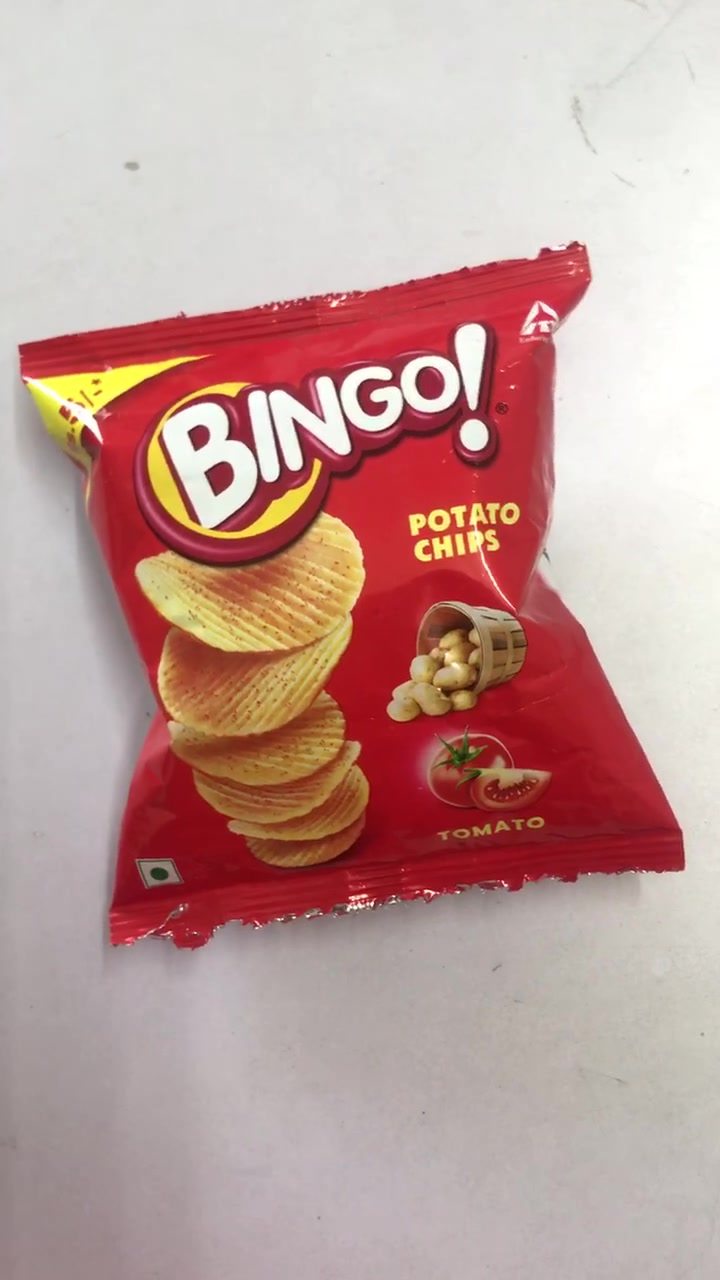Bingo: (30, 252, 666, 899)
